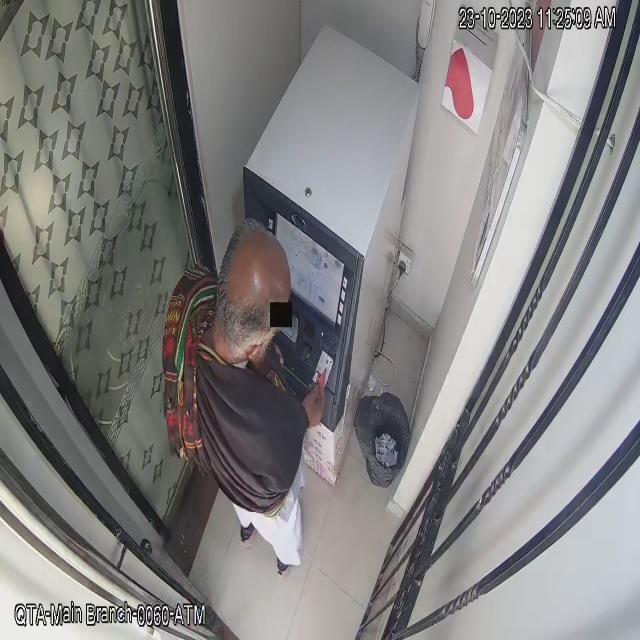atm-card: (309, 343, 337, 397)
